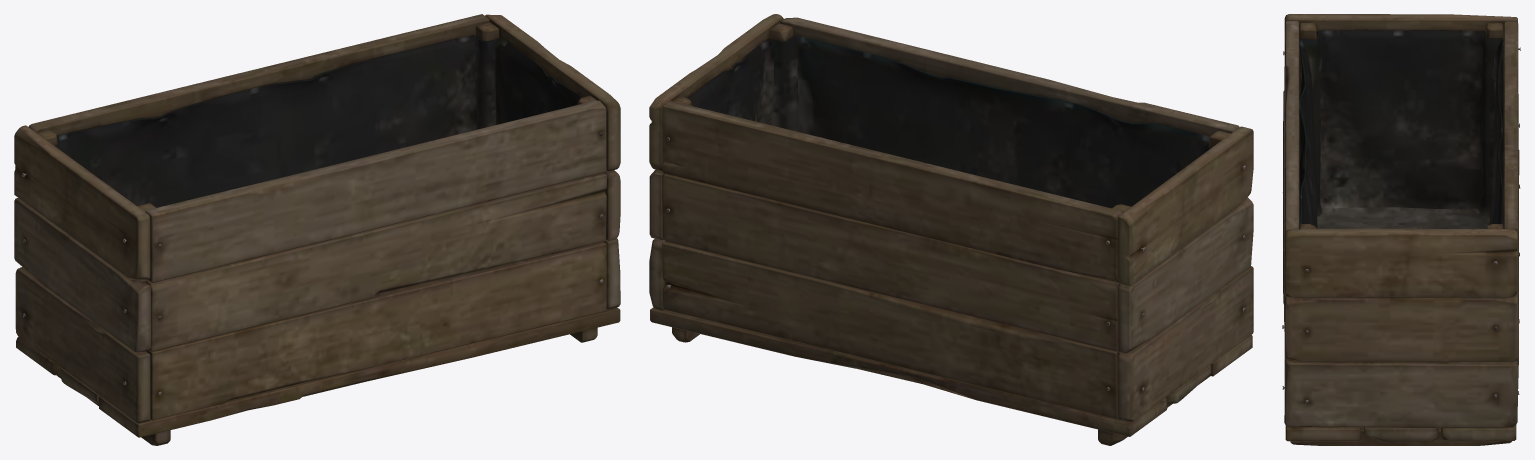
The model's file is planter_box_01.glb.
3 renders of one model, left to right at view 1: azimuth 30°, elevation 25°; view 2: azimuth 150°, elevation 25°; view 3: azimuth 270°, elevation 25°, orthographic. The views are drawn at different scales.
Visible parts, largest first — view 1: planter_box_01; view 2: planter_box_01; view 3: planter_box_01.
Boxes of the visible parts, left/top/right/bottom form: planter_box_01: left=14, top=14, right=620, bottom=445; planter_box_01: left=649, top=14, right=1253, bottom=445; planter_box_01: left=1282, top=14, right=1520, bottom=445.
Size of the model in its own units: 0.9126 by 0.4249 by 0.4137.
Materials: 1 (1 with a texture image).
